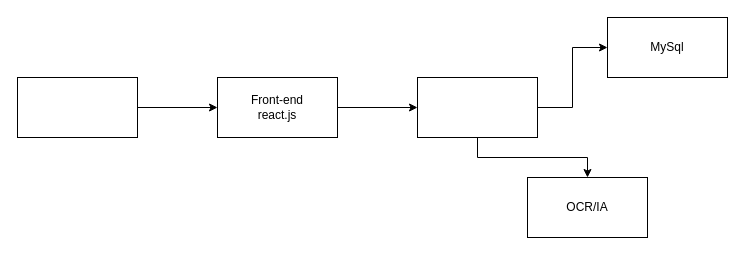
Some shapes in this 745 by 255 pixel diagram are drawn without their labels. Each missing label, with the centre of its shape:
Back-end java +Spring Boot: the point at 477,107
Usuàrio: the point at 77,107
